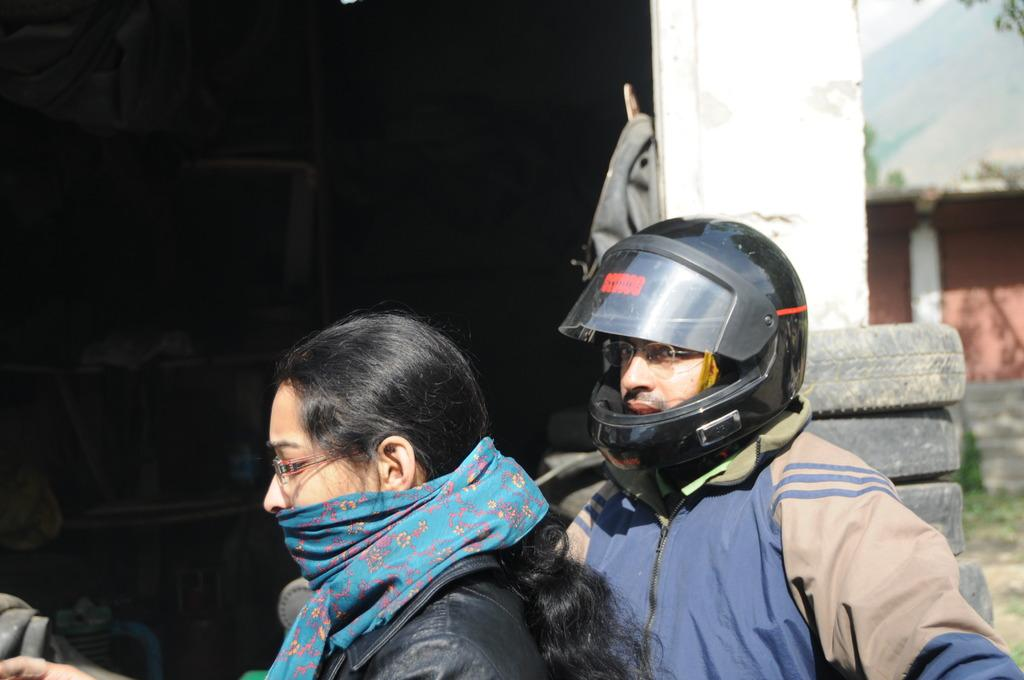helmet: (558, 217, 809, 504)
nohelmet: (259, 313, 490, 593)
